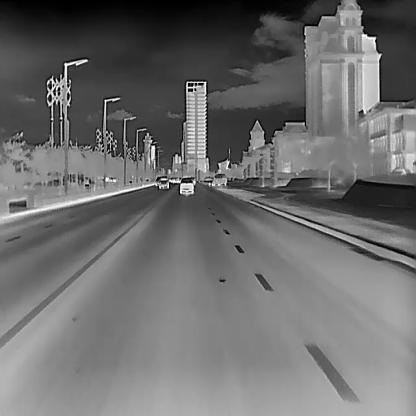car: (179, 176, 193, 195), (212, 173, 227, 186), (157, 176, 169, 188)
